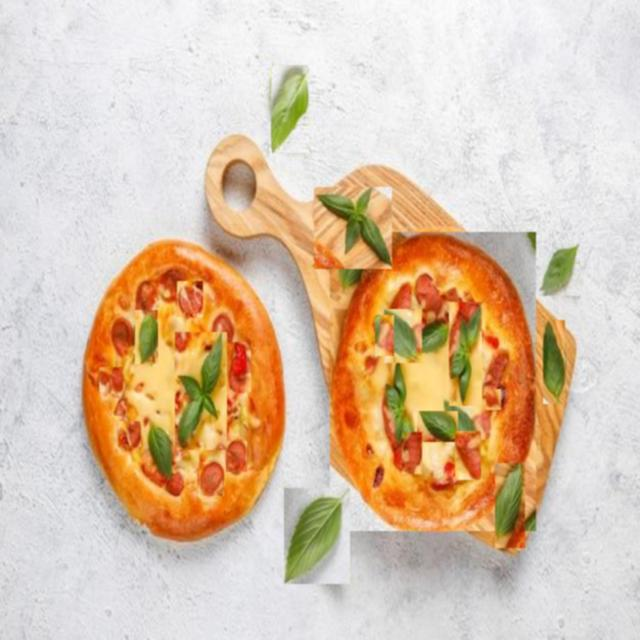basil: (314, 187, 392, 269), (284, 488, 350, 584), (175, 332, 227, 450), (449, 302, 482, 406), (271, 65, 309, 153), (495, 464, 525, 550), (539, 240, 580, 296), (384, 309, 422, 363), (543, 320, 565, 404), (146, 420, 176, 477), (417, 411, 458, 442), (135, 310, 158, 364)
pepperoni: (411, 451, 450, 488), (455, 431, 481, 480), (227, 342, 251, 392), (177, 281, 203, 317), (199, 462, 224, 496), (402, 432, 422, 474), (376, 315, 396, 356), (99, 368, 123, 396), (226, 442, 247, 474), (118, 421, 141, 447), (167, 473, 185, 496), (486, 389, 501, 410), (114, 398, 128, 416), (388, 456, 401, 474)
pizza: (81, 242, 285, 544), (330, 232, 536, 531)
